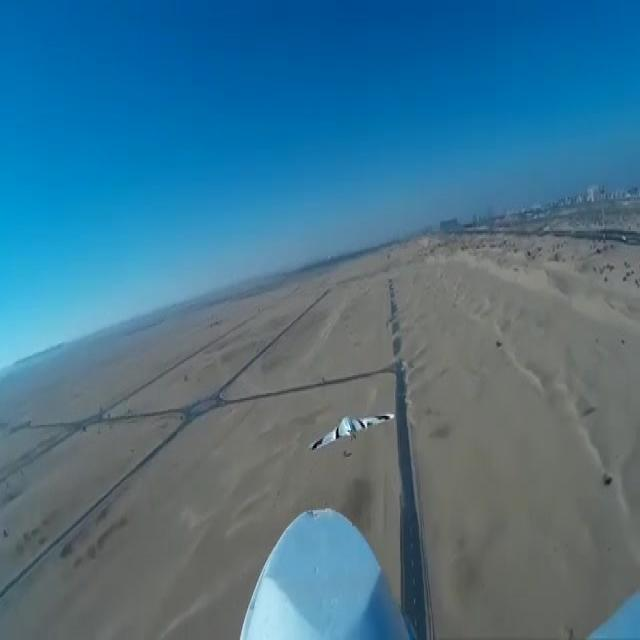iha: (340, 411, 364, 456)
